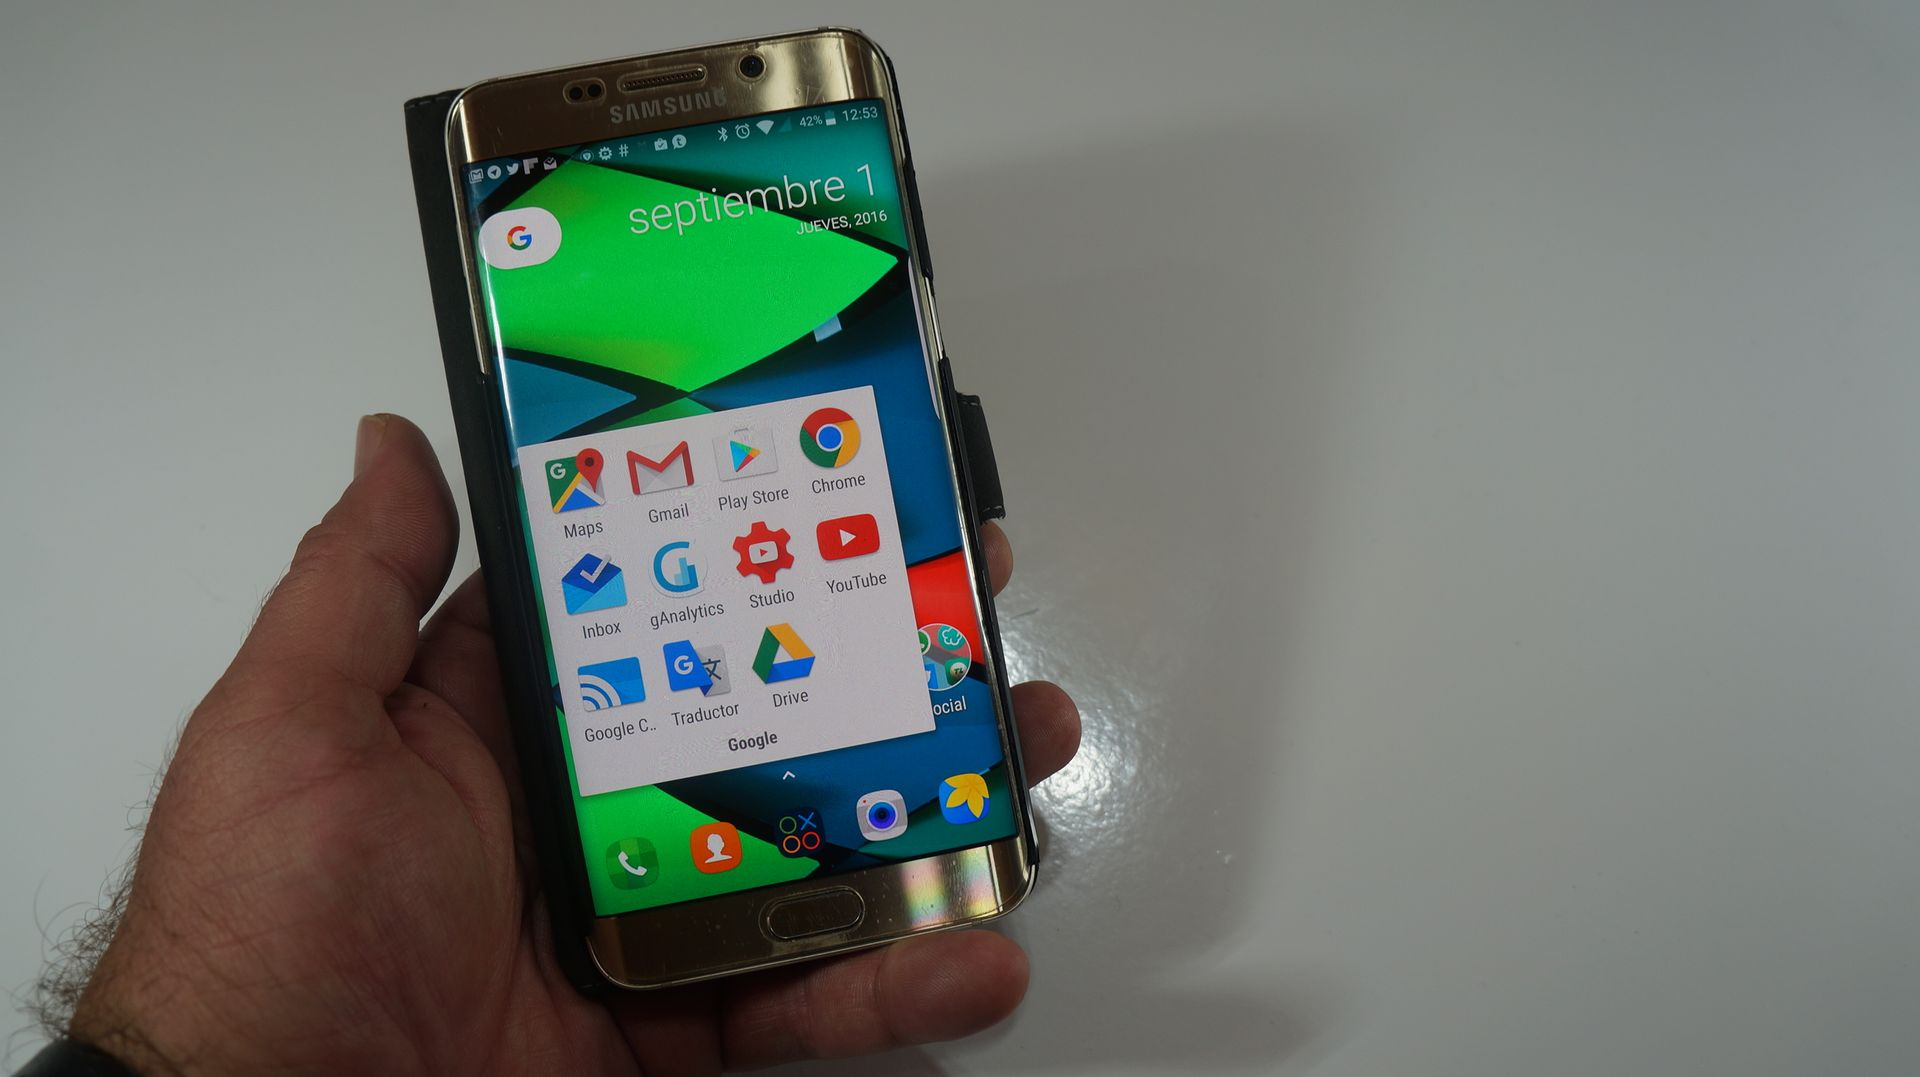smartphone: (444, 25, 1040, 993)
